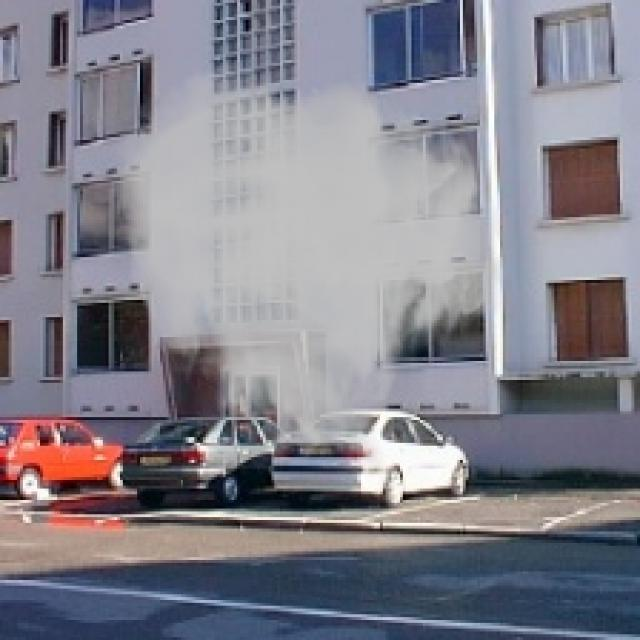smoke: (109, 60, 508, 477)
